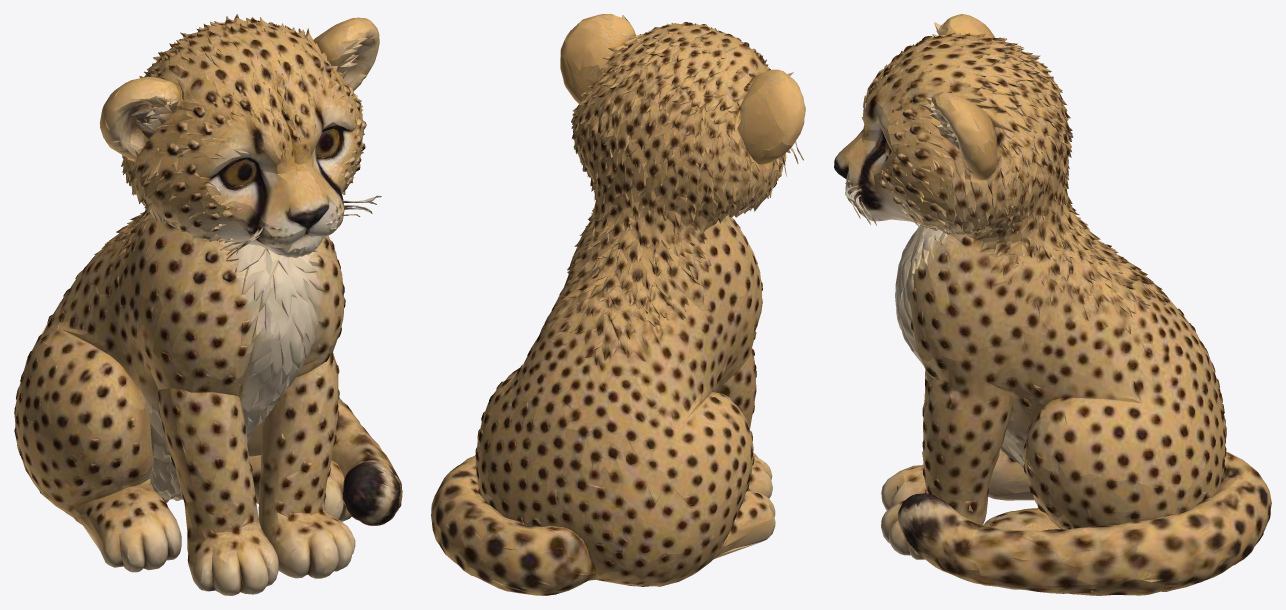
3 views of the same model, side by side, from view 1: azimuth 30°, elevation 25°; view 2: azimuth 150°, elevation 25°; view 3: azimuth 270°, elevation 25° (orthographic). The views are drawn at different scales.
Visible parts, largest first — view 1: output_unwrapped; view 2: output_unwrapped; view 3: output_unwrapped.
Part boxes in pixels (x1=…): output_unwrapped: x1=14, y1=14, x2=402, y2=595; output_unwrapped: x1=431, y1=14, x2=805, y2=595; output_unwrapped: x1=834, y1=14, x2=1271, y2=595.
Size of the model in its own units: 1.19 by 1.9 by 1.56.
1 material, 1 textured.
